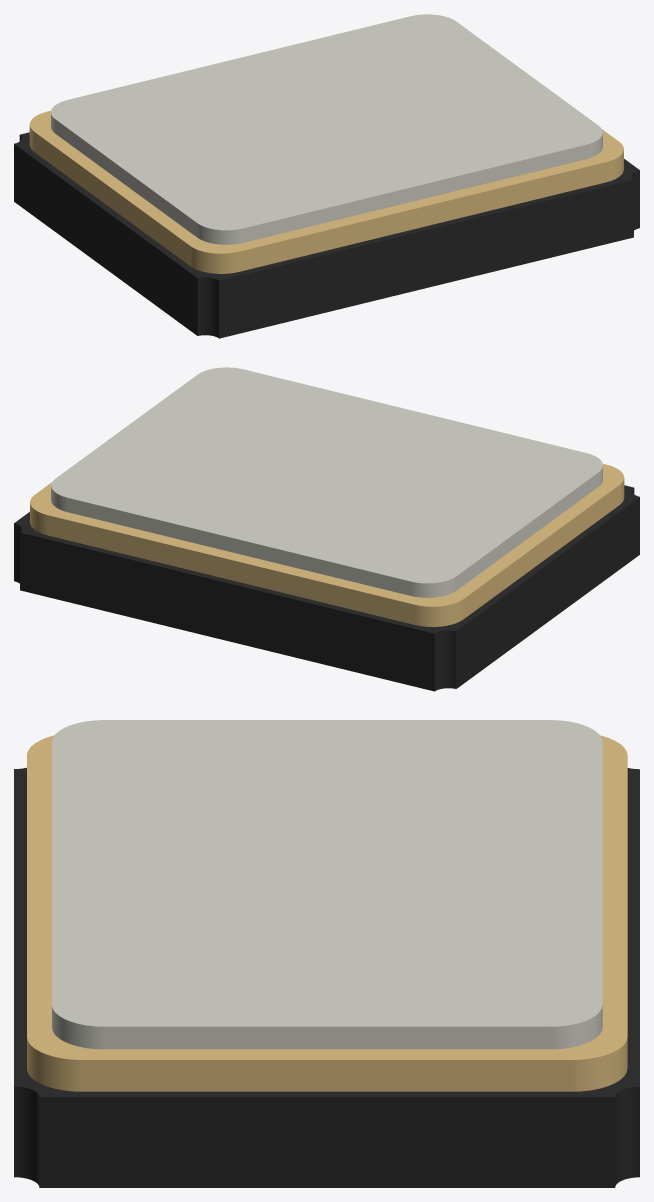
Rendered from Crystal_Crystal_SMD_3225-4Pin_3.2x2.5mm.glb.
3 renders of one model, top to bottom at view 1: azimuth 30°, elevation 25°; view 2: azimuth 150°, elevation 25°; view 3: azimuth 270°, elevation 25°, orthographic. The views are drawn at different scales.
Visible parts, largest first — view 1: Crystal_SMD_3225-4Pin_3.2x2.5mm; view 2: Crystal_SMD_3225-4Pin_3.2x2.5mm; view 3: Crystal_SMD_3225-4Pin_3.2x2.5mm.
Part boxes in pixels (bbox=[...]): Crystal_SMD_3225-4Pin_3.2x2.5mm: bbox=[14, 14, 639, 338]; Crystal_SMD_3225-4Pin_3.2x2.5mm: bbox=[14, 367, 639, 691]; Crystal_SMD_3225-4Pin_3.2x2.5mm: bbox=[14, 720, 639, 1187].
Size of the model in its own units: 0.0032 by 0.00064 by 0.0025.
